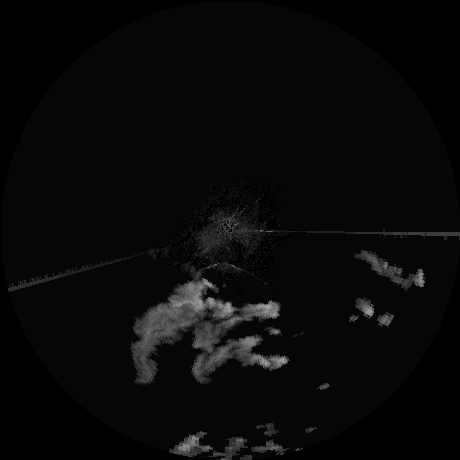frontgust: (195, 259, 248, 278)
